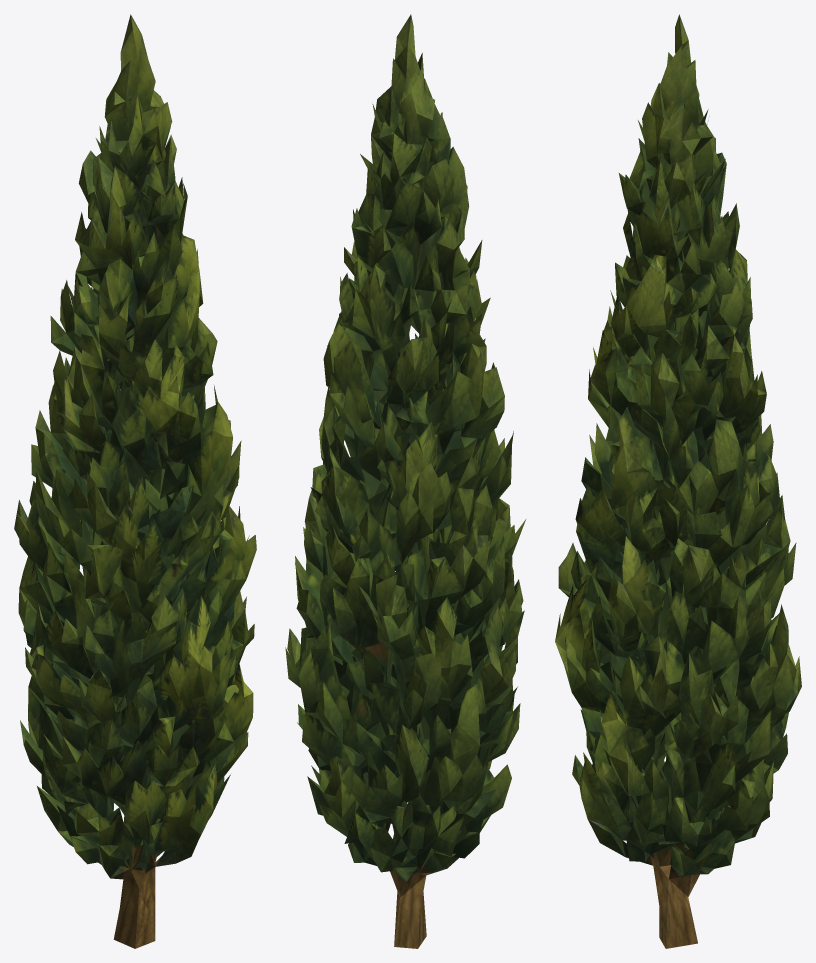
Rendered from iso-cypress.glb.
3 views of the same model, side by side, from view 1: azimuth 30°, elevation 25°; view 2: azimuth 150°, elevation 25°; view 3: azimuth 270°, elevation 25° (orthographic).
Parts seen in each view (by area): view 1: Mesh_0; view 2: Mesh_0; view 3: Mesh_0.
Part boxes in pixels (<box>): Mesh_0: <box>14,14,256,948</box>; Mesh_0: <box>285,14,525,948</box>; Mesh_0: <box>555,14,801,948</box>.
Size of the model in its own units: 0.4485 by 1.9 by 0.4579.
Materials: 1 (1 with a texture image).
